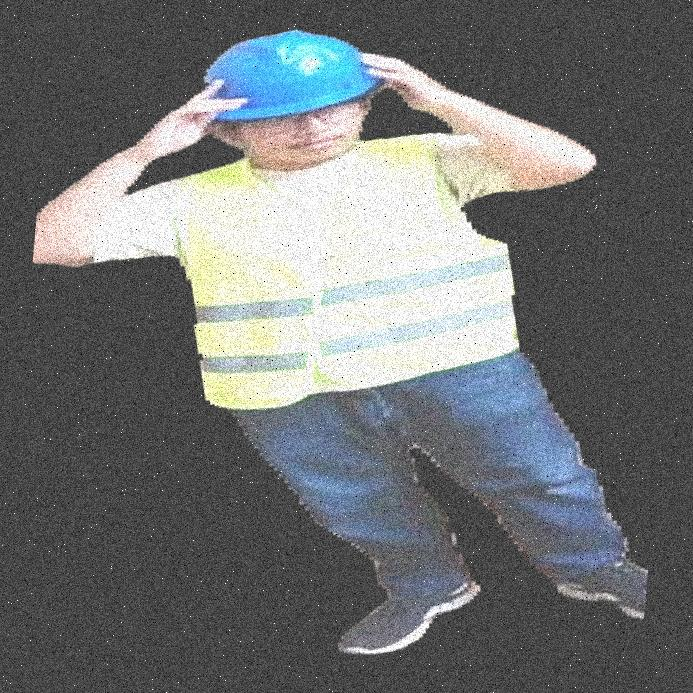Pessoa: (251, 0, 559, 692)
